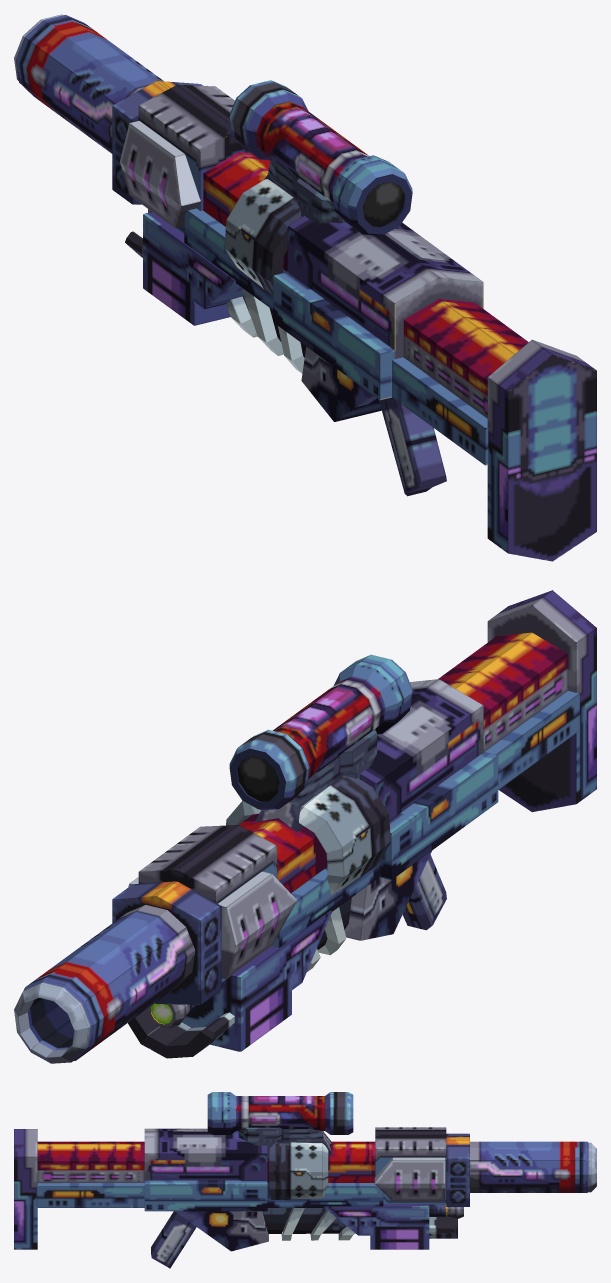
File: sniper.fbx
3 renders of one model, top to bottom at view 1: azimuth 30°, elevation 25°; view 2: azimuth 150°, elevation 25°; view 3: azimuth 270°, elevation 25°, orthographic. The views are drawn at different scales.
Visible parts, largest first — view 1: cuboid_8, cuboid_11, cuboid_9, tube_3, tube_1, cuboid_3, cuboid_2, cuboid_7, tube_selection, cuboid_4, cuboid, cuboid_10 (+5 smaller); view 2: cuboid_8, cuboid_9, tube_3, cuboid_11, tube_1, cuboid_3, tube_selection, cuboid_2, cuboid_7, cuboid_1, cuboid_4, tube_2 (+7 smaller); view 3: cuboid_8, cuboid_9, tube_3, tube_1, cuboid_7, cuboid_3, tube_selection_1, cuboid_11, cuboid_5, cuboid_2, cuboid_10, cuboid_6 (+7 smaller).
Boxes of the visible parts, x1,y1,x2,y2 form: cuboid_8: (273,215,483,400); cuboid_11: (487,339,596,561); cuboid_9: (392,299,528,465); tube_3: (16,15,200,153); tube_1: (256,102,412,235); cuboid_3: (143,212,243,325); cuboid_2: (138,84,251,233); cuboid_7: (184,152,395,309); tube_selection: (224,179,301,295); cuboid_4: (120,121,201,228); cuboid: (379,397,446,496); cuboid_10: (301,347,394,421); cuboid_8: (352,679,498,880); cuboid_9: (438,632,579,789); tube_3: (23,890,216,1060); cuboid_11: (487,590,596,812); tube_1: (273,654,412,778); cuboid_3: (182,910,331,1051); tube_selection: (299,775,390,895); cuboid_2: (138,825,277,982); cuboid_7: (239,783,391,947); cuboid_1: (112,881,221,1004); cuboid_4: (218,871,297,979); tube_2: (14,982,90,1063); cuboid_8: (144,1128,267,1211); cuboid_9: (36,1141,144,1207); tube_3: (445,1141,591,1192); tube_1: (207,1092,324,1134); cuboid_7: (267,1141,383,1207); cuboid_3: (324,1204,429,1249); tube_selection_1: (269,1142,328,1199); cuboid_11: (14,1129,37,1249); cuboid_5: (374,1157,445,1201); cuboid_2: (375,1127,446,1204); cuboid_10: (175,1211,268,1251); cuboid_6: (262,1208,355,1240).
Bounding box in the file's own units: 63.15 × 150 × 463.
1 material, 1 textured.
